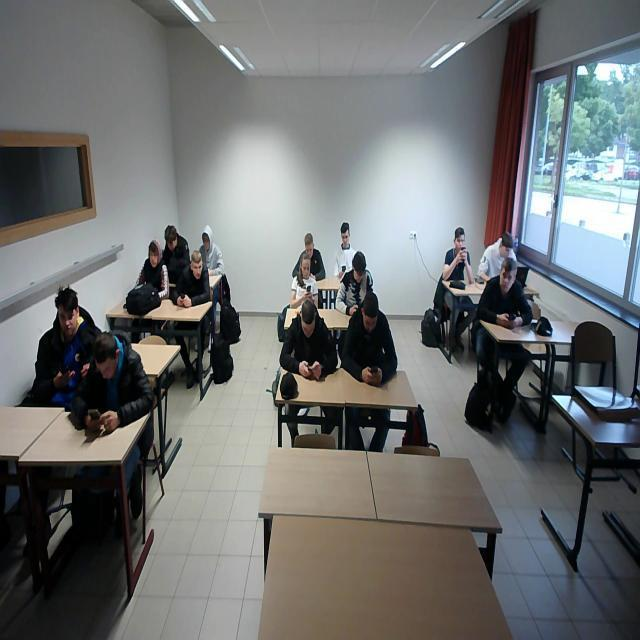Looking away: (149, 249, 159, 269)
Phone use: (74, 326, 156, 434), (22, 280, 92, 393), (338, 294, 401, 397), (281, 296, 335, 390), (486, 270, 535, 326), (336, 255, 377, 318), (442, 223, 474, 291), (328, 218, 361, 279), (178, 253, 212, 311), (288, 258, 322, 312)
